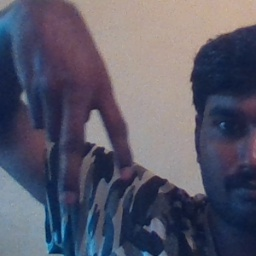Y: (19, 33, 139, 209)
